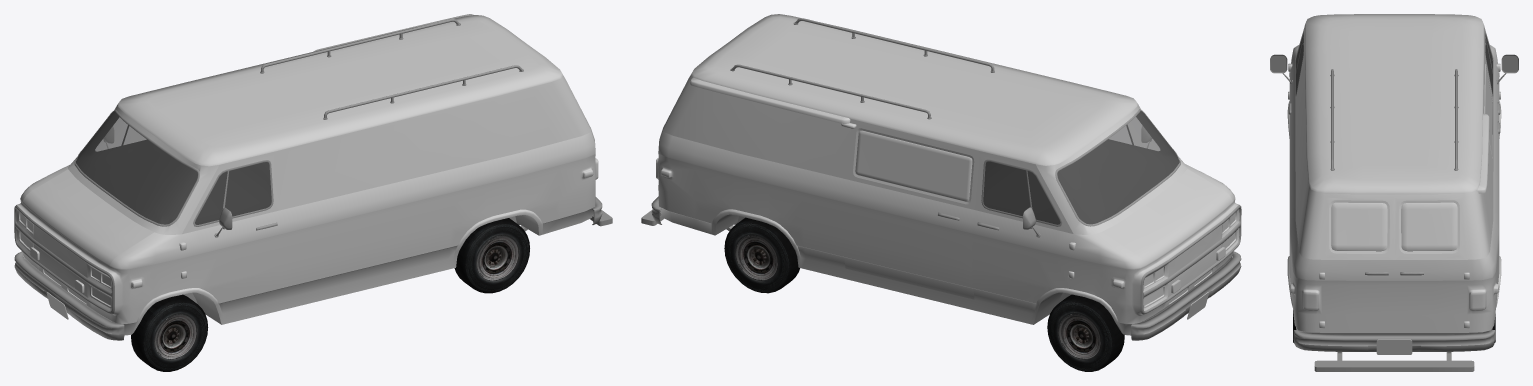
Rendered from CHVAN_panel_MODEL.fbx.
The picture shows the model from 3 angles, left to right: view 1: azimuth 30°, elevation 25°; view 2: azimuth 150°, elevation 25°; view 3: azimuth 270°, elevation 25°; orthographic projection. The views are drawn at different scales.
Parts seen in each view (by area): view 1: body, glass, void, chrome, wheel_01, wheel_02, lights, bottom; view 2: body, panel_door, glass, void, chrome, wheel_04, wheel_03, lights, bottom; view 3: body, chrome, panel_door, lights, glass, void.
Boxes of the visible parts, box(x1,y1,x2,y2) form: body: box(16, 14, 596, 335); glass: box(76, 111, 271, 224); void: box(76, 111, 271, 224); chrome: box(14, 19, 612, 340); wheel_01: box(131, 294, 208, 371); wheel_02: box(454, 218, 529, 293); lights: box(20, 158, 598, 305); bottom: box(183, 215, 538, 324); body: box(657, 14, 1239, 335); panel_door: box(843, 119, 979, 299); glass: box(983, 111, 1179, 224); void: box(983, 111, 1179, 224); chrome: box(641, 18, 1241, 340); wheel_04: box(1047, 294, 1124, 371); wheel_03: box(724, 217, 799, 293); lights: box(656, 157, 1235, 305); bottom: box(715, 214, 1071, 324); body: box(1287, 14, 1501, 354); chrome: box(1270, 32, 1518, 371); panel_door: box(1483, 52, 1499, 185); lights: box(1289, 72, 1499, 310); glass: box(1296, 35, 1492, 93); void: box(1296, 35, 1492, 93).
Bounding box in the file's own units: 208 × 78.7 × 88.31.
